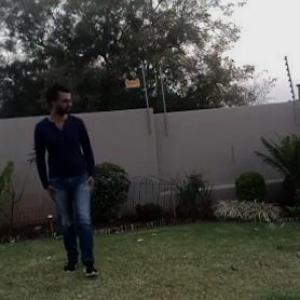follow: (37, 76, 100, 284)
